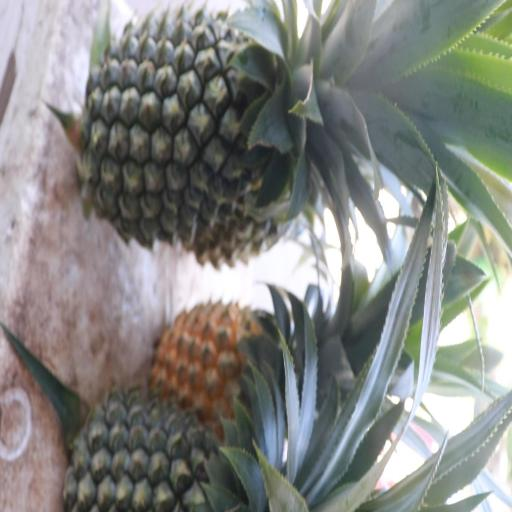Pineapple - v8 v1: (157, 280, 298, 422)
